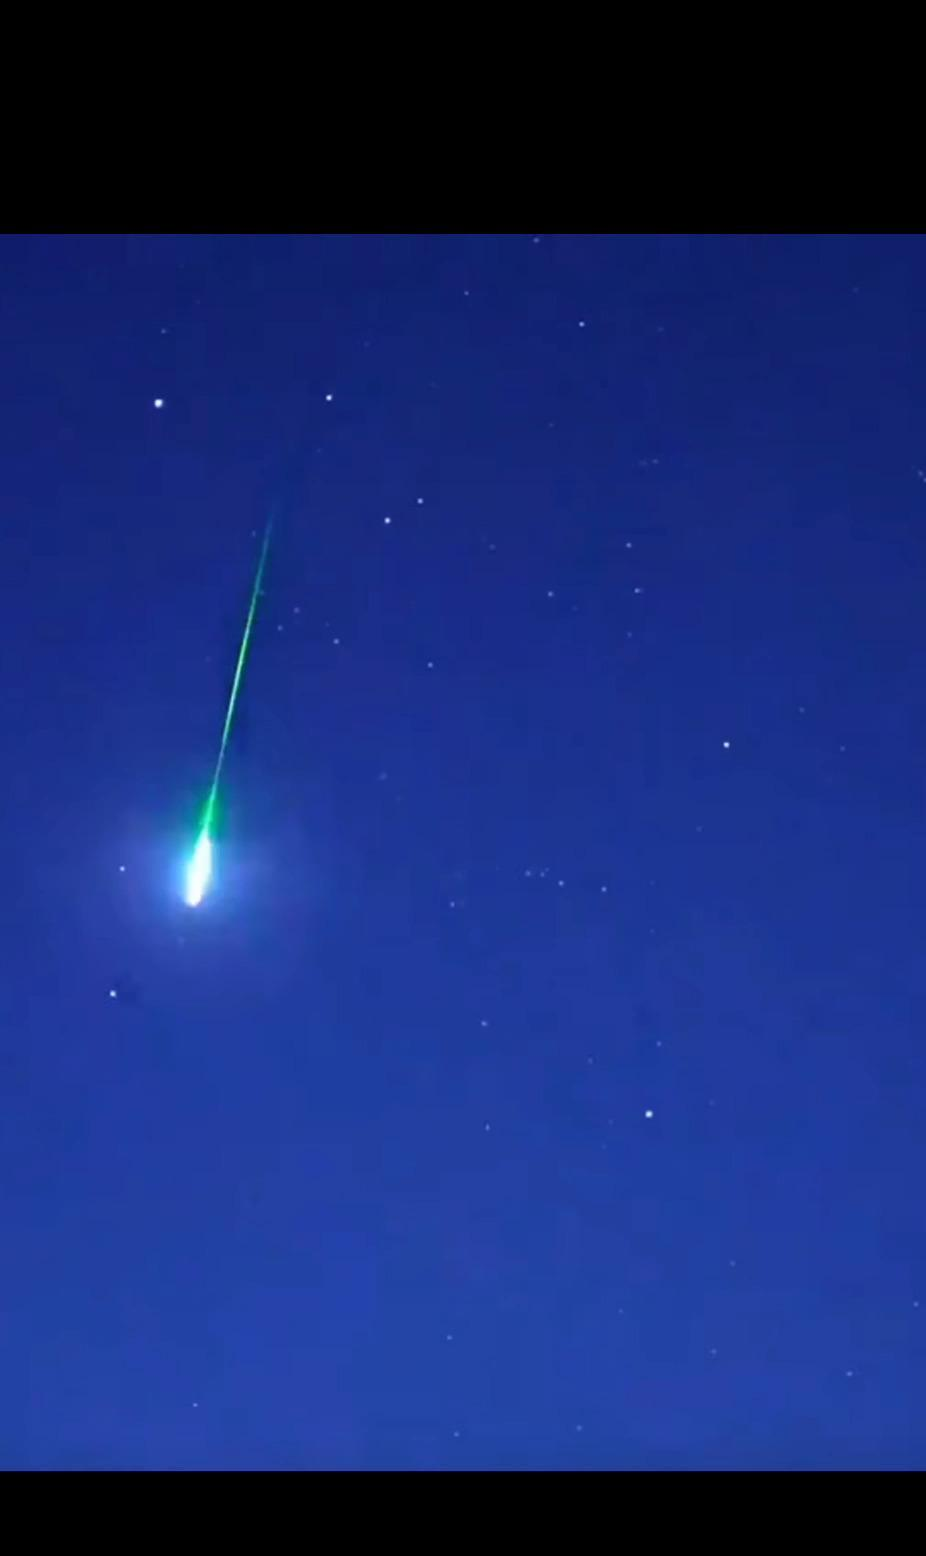meteorite: (155, 469, 298, 946)
